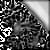node: (12, 23, 20, 33)
